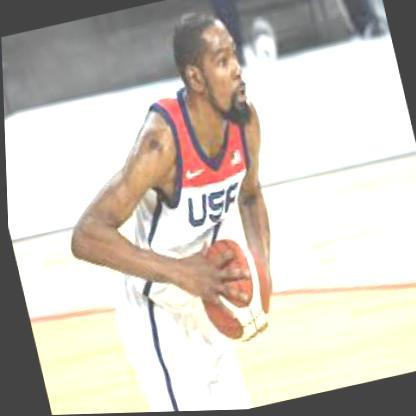basketball: (185, 232, 277, 350)
